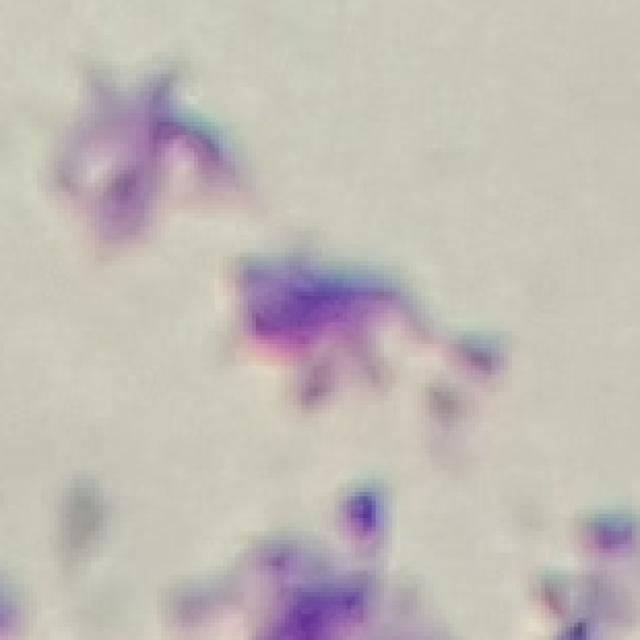non-sperm: (230, 252, 506, 428)
